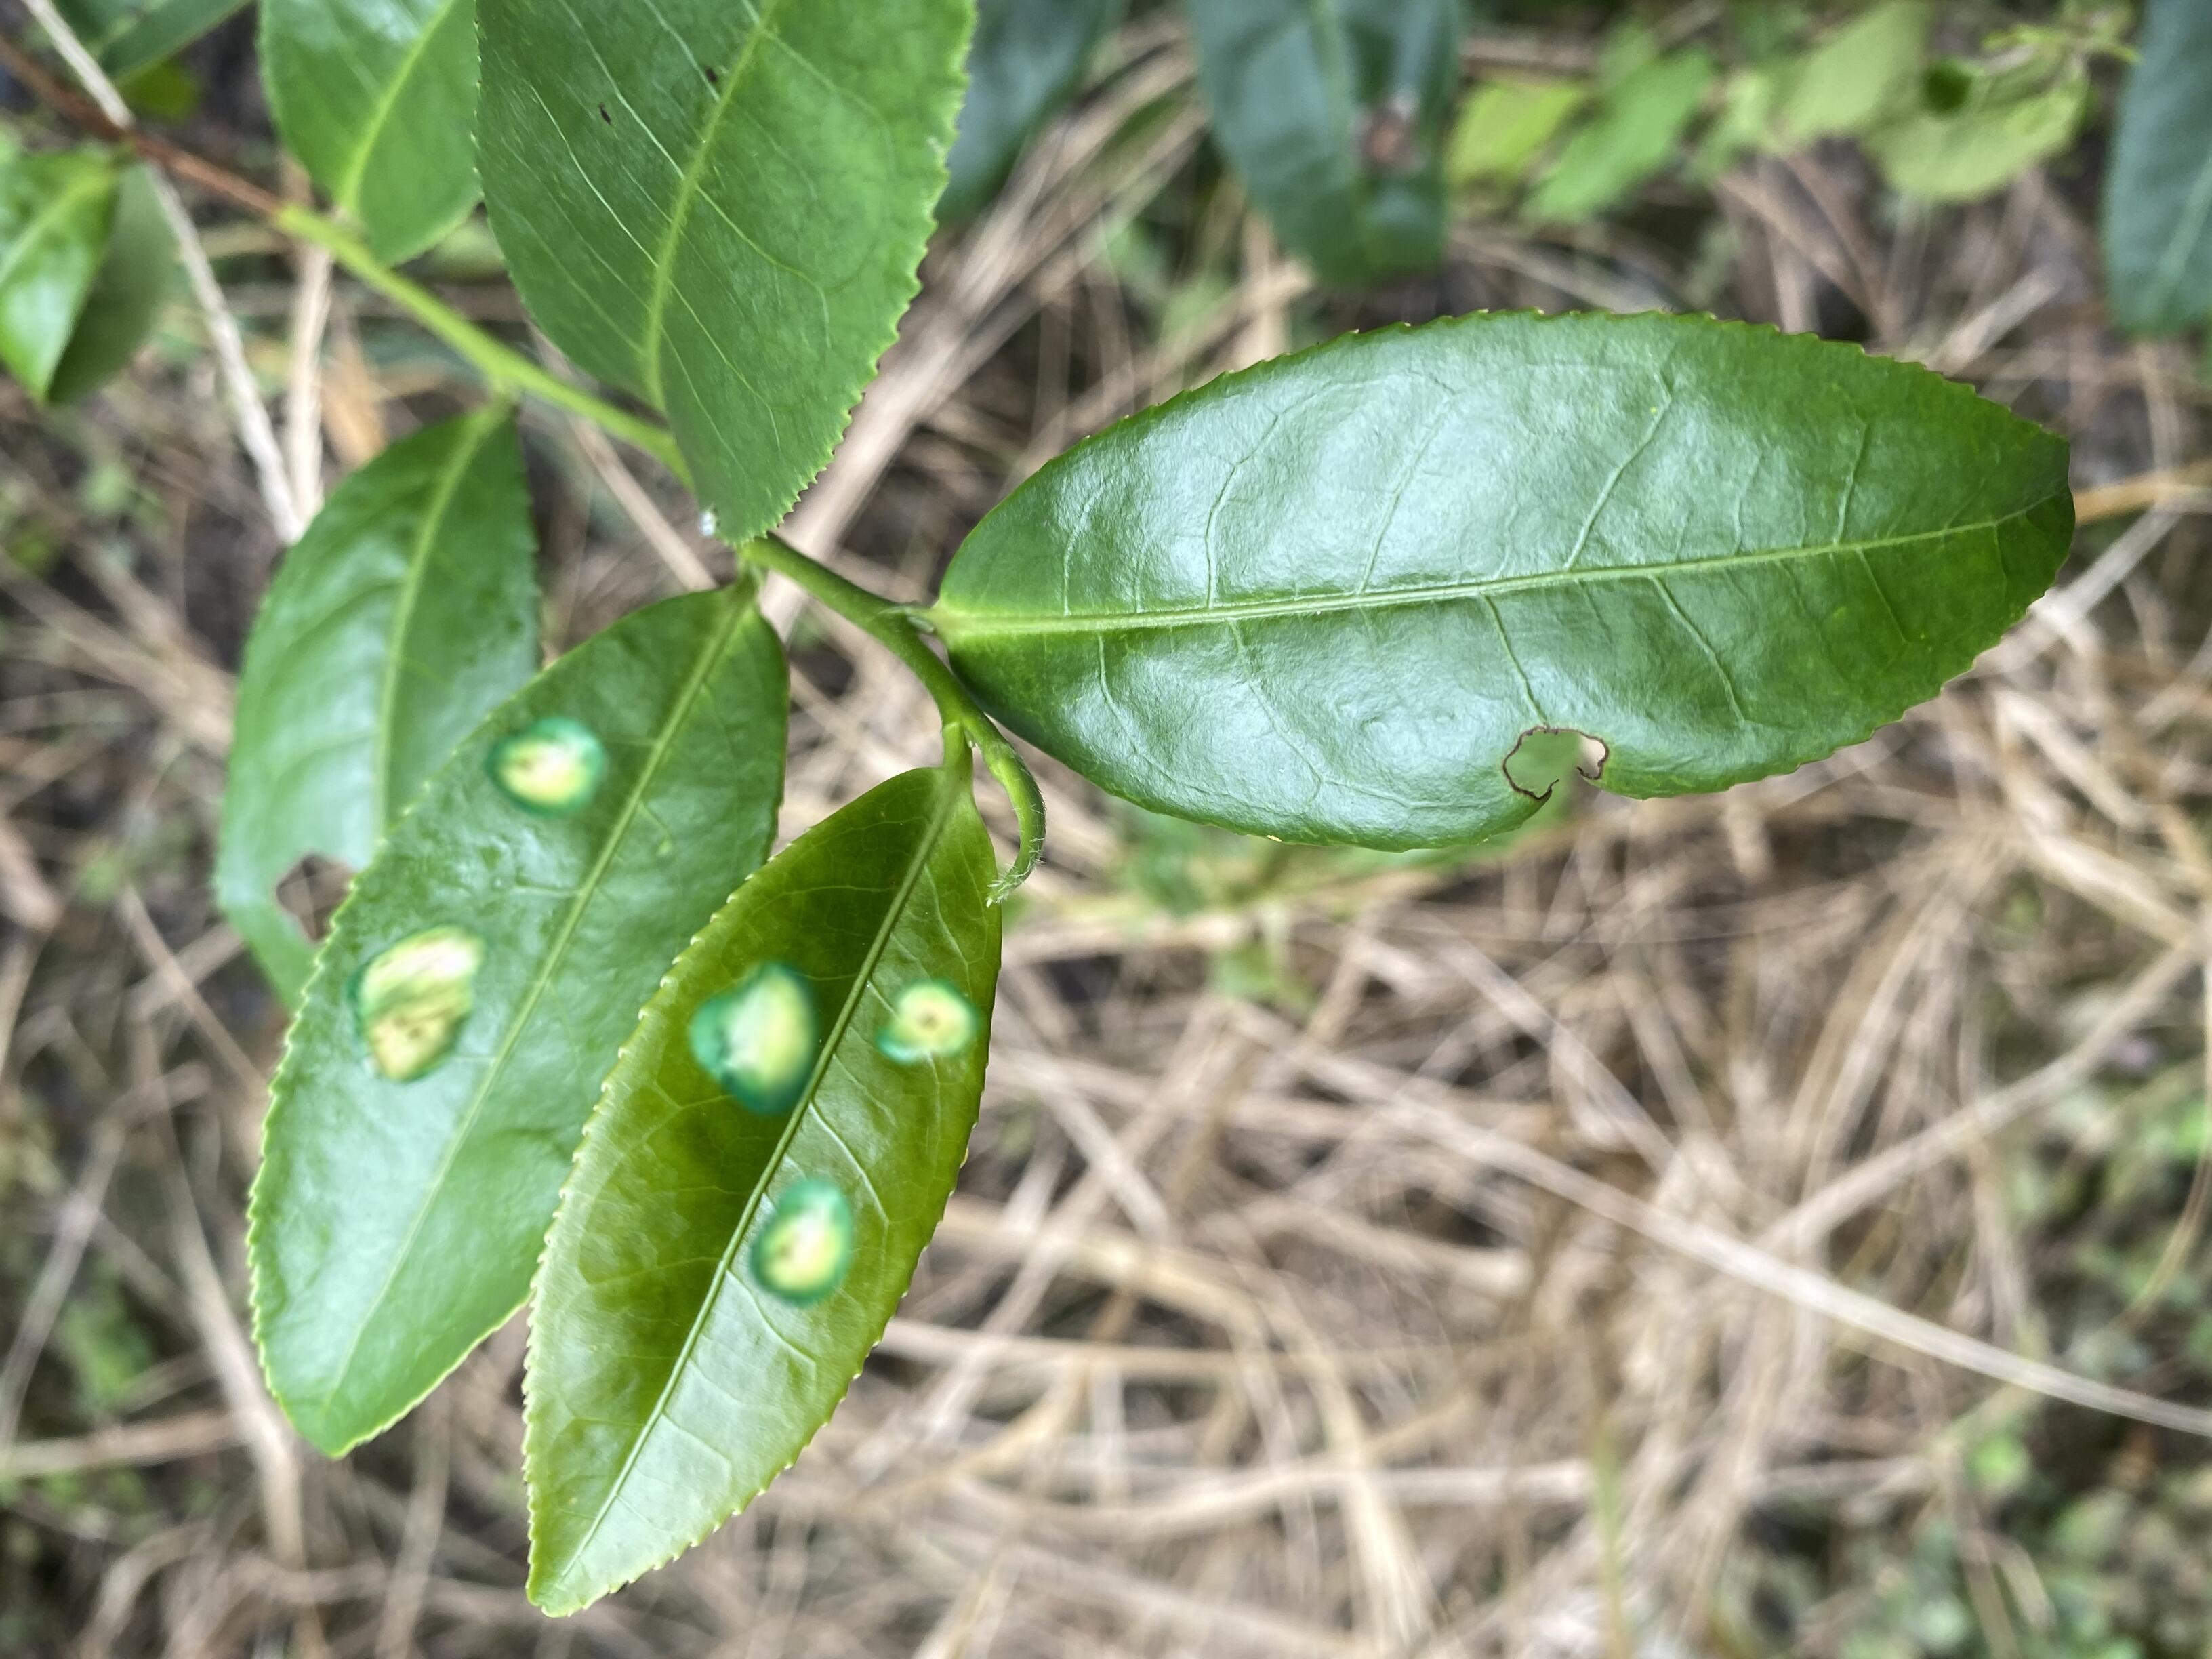chabing_high: (244, 582, 791, 1459), (519, 762, 1005, 1622)
chihuo_low: (934, 307, 2081, 852)
